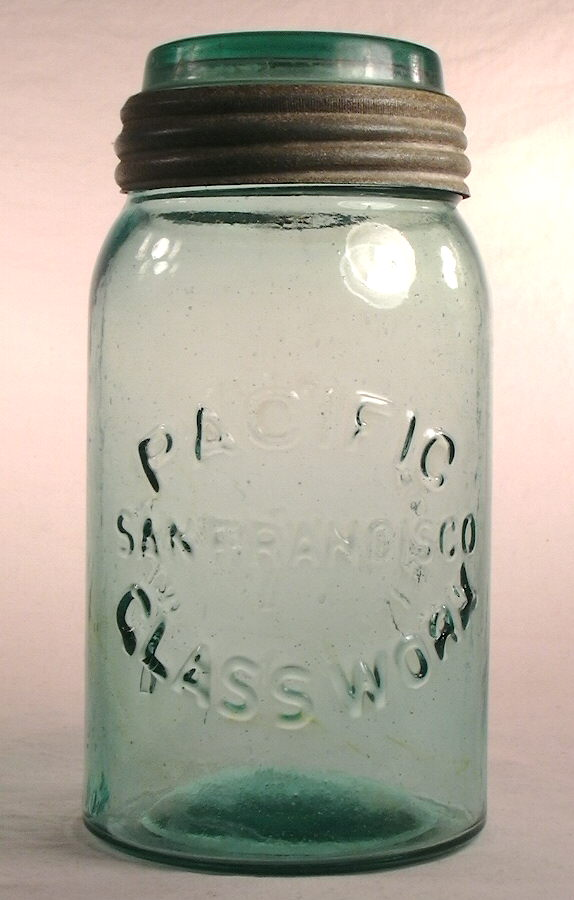glass_bottle: (77, 25, 504, 884)
